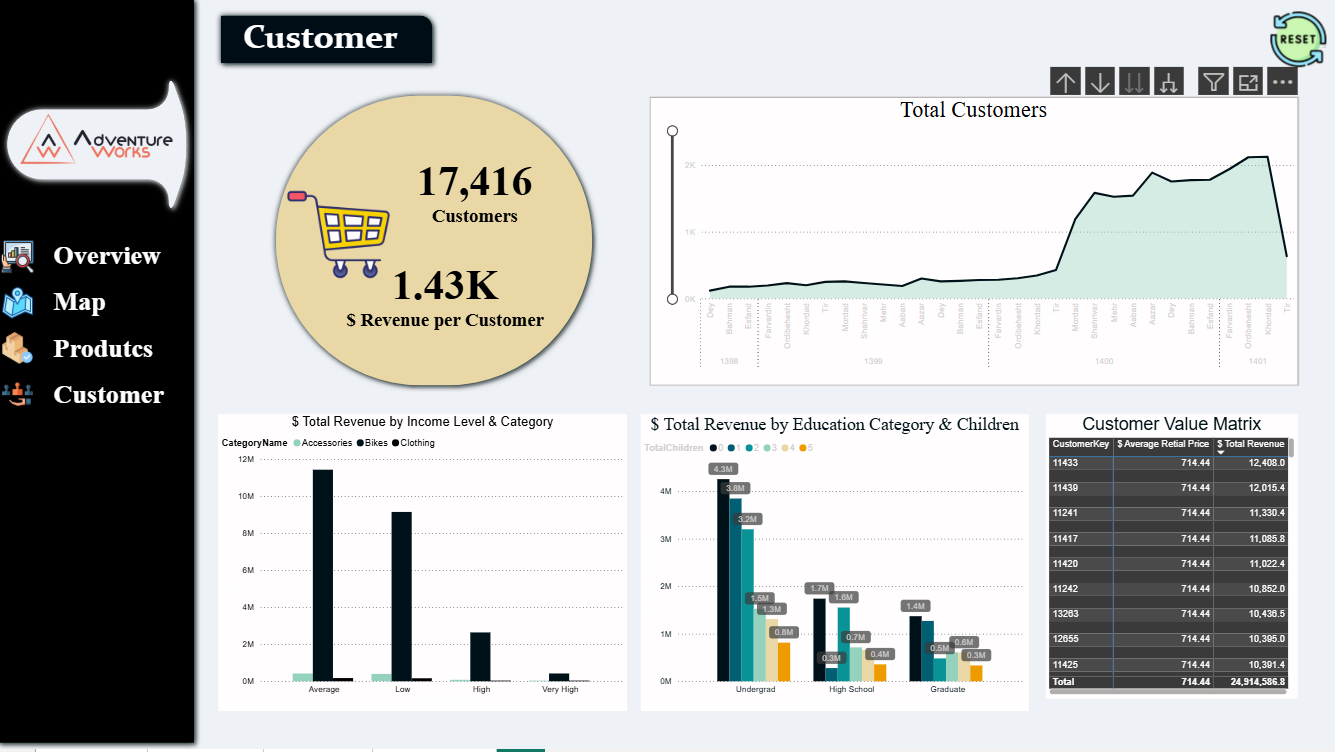

Layout of this report page (visuals, bound fields, positions):
{"tool":"powerbi","page":{"name":"Customers","canvas":[1920,1080],"ordinal":3},"visuals":[{"type":"shape","box":[0,0,297.5,1080],"z":0,"group":"g3"},{"type":"group","id":"g1","title":"Page Name","box":[318,24,320,86],"z":0},{"type":"shape","box":[318,24,320,86],"z":0,"group":"g1"},{"type":"shape","box":[396,138,470,432],"z":0,"group":"g2"},{"type":"card","fields":{"Values":["Table Measure.$ Averege Revenue per Customer"]},"box":[478,318,338,218],"z":500,"group":"g2"},{"type":"shape","box":[12,98,286,236],"z":750,"group":"g3"},{"type":"image","box":[24,116,252,184],"z":875,"group":"g3"},{"type":"textbox","box":[354,30,256,76],"z":1000,"group":"g1"},{"type":"card","fields":{"Values":["Table Measure.# Total Customers"]},"box":[502,90,376,378],"z":1000,"group":"g2"},{"type":"textbox","box":[64,348,234,56],"z":1000,"group":"g3"},{"type":"group","id":"g2","title":"Total Order","box":[396,90,482,480],"z":2000},{"type":"image","box":[414,218,162,254],"z":2000,"group":"g2"},{"type":"lineChart","title":"Total Customers","fields":{"Y":["Table Measure.# Total Customers"],"Category":["Date Lookup.Persian Date Hierarchy.PersianYear","Date Lookup.Persian Date Hierarchy.PersianMonthNameEn","Date Lookup.Persian Date Hierarchy.PersianDayNumberOfMonth"]},"box":[940,148,926,412],"z":3000},{"type":"textbox","box":[64,414,234,56],"z":3000,"group":"g3"},{"type":"textbox","box":[64.7,480,233.3,56.7],"z":4000,"group":"g3"},{"type":"textbox","box":[64.7,546.7,233.3,55],"z":5000,"group":"g3"},{"type":"lineClusteredColumnComboChart","title":"$ Total Revenue by Income Level & Category","fields":{"Category":["Customer Lookup.Income Level"],"Y":["Table Measure.$ Total Revenue"],"Series":["Product Categories Lookup.CategoryName"]},"box":[324,602,584,424],"z":5000},{"type":"image","box":[0,413.9,73.3,56.7],"z":6000,"group":"g3"},{"type":"pivotTable","title":"Customer Value Matrix","fields":{"Values":["Table Measure.$ Average Retial Price","Table Measure.$ Total Revenue"],"Rows":["Customer Lookup.CustomerKey"]},"box":[1506,602,360,406],"z":6000},{"type":"image","box":[0,545,73.3,56.7],"z":7000,"group":"g3"},{"type":"lineClusteredColumnComboChart","title":"$ Total Revenue by Education Category & Children","fields":{"Category":["Customer Lookup.Education Category"],"Y":["Table Measure.$ Total Revenue"],"Series":["Customer Lookup.TotalChildren"]},"box":[926,602,554,424],"z":7000},{"type":"actionButton","box":[1814,6,104,122],"z":7001},{"type":"group","id":"g3","title":"Navigate","box":[0,0,298,1080],"z":7002},{"type":"image","box":[0,348.3,73.3,56.7],"z":8000,"group":"g3"},{"type":"image","box":[0,479.4,73.3,56.7],"z":9000,"group":"g3"}]}

Visuals, with their boxes on the page's 1920x1080 design canvas (x1, y1, x2, y2). These are canvas units, not pixel positions in the 1335x752 screenshot, which may show the page scaled, cropped or inside an application window:
shape: bbox(0, 0, 298, 1080)
"Page Name" group: bbox(318, 24, 638, 110)
shape: bbox(318, 24, 638, 110)
shape: bbox(396, 138, 866, 570)
card - Table Measure.$ Averege Revenue per Customer: bbox(478, 318, 816, 536)
shape: bbox(12, 98, 298, 334)
image: bbox(24, 116, 276, 300)
textbox: bbox(354, 30, 610, 106)
card - Table Measure.# Total Customers: bbox(502, 90, 878, 468)
textbox: bbox(64, 348, 298, 404)
"Total Order" group: bbox(396, 90, 878, 570)
image: bbox(414, 218, 576, 472)
"Total Customers" lineChart: bbox(940, 148, 1866, 560)
textbox: bbox(64, 414, 298, 470)
textbox: bbox(65, 480, 298, 537)
textbox: bbox(65, 547, 298, 602)
"$ Total Revenue by Income Level & Category" lineClusteredColumnComboChart: bbox(324, 602, 908, 1026)
image: bbox(0, 414, 73, 471)
"Customer Value Matrix" pivotTable: bbox(1506, 602, 1866, 1008)
image: bbox(0, 545, 73, 602)
"$ Total Revenue by Education Category & Children" lineClusteredColumnComboChart: bbox(926, 602, 1480, 1026)
actionButton: bbox(1814, 6, 1918, 128)
"Navigate" group: bbox(0, 0, 298, 1080)
image: bbox(0, 348, 73, 405)
image: bbox(0, 479, 73, 536)
